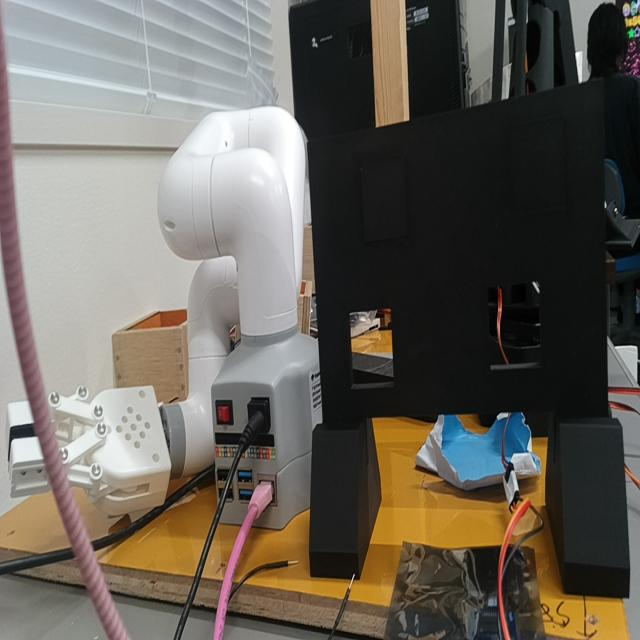Obstacle: (488, 286, 543, 367), (349, 309, 393, 384)
Wall: (309, 79, 609, 425)
